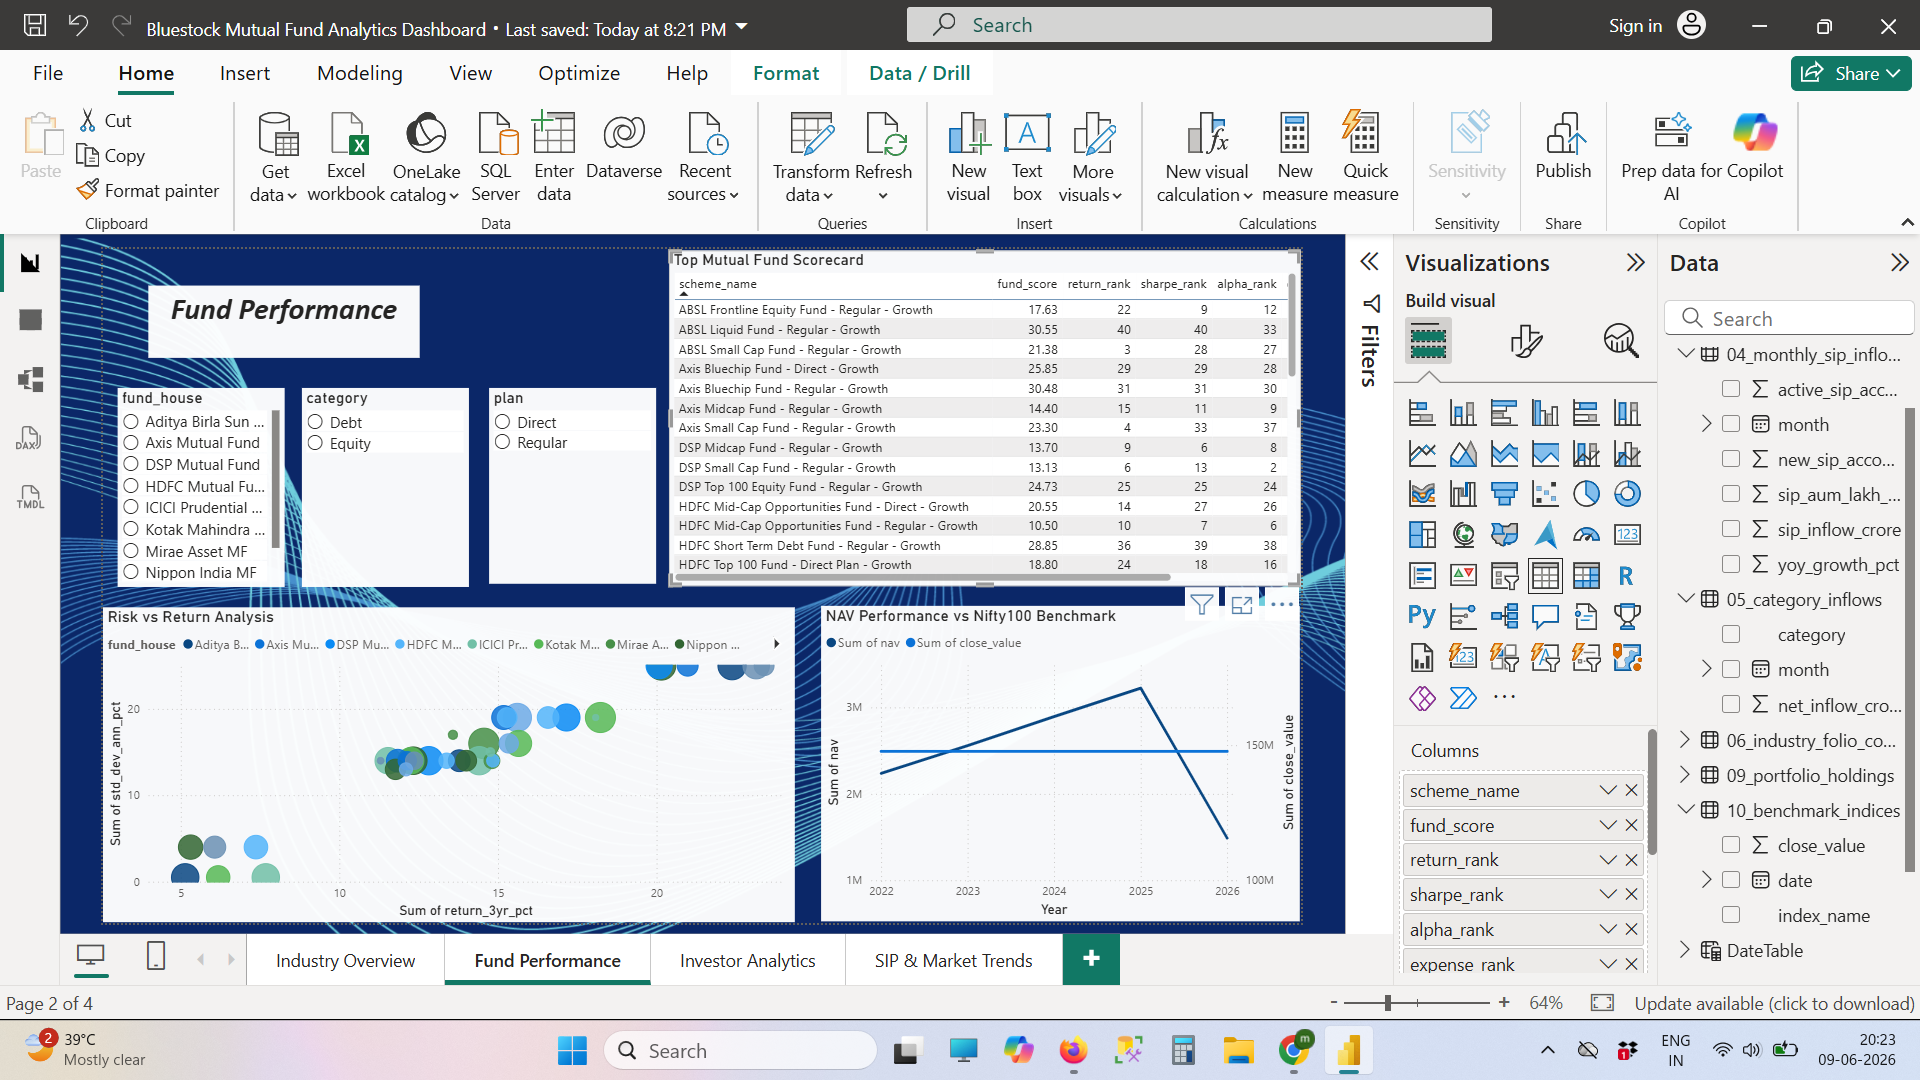

The dashboard page shown, as its layout file describes it:
{"tool":"powerbi","page":{"name":"Fund Performance","canvas":[1280,720],"ordinal":1},"visuals":[{"type":"scatterChart","title":"Risk vs Return Analysis","fields":{"X":["Sum(scheme_performance_clean.return_3yr_pct)"],"Y":["Sum(scheme_performance_clean.std_dev_ann_pct)"],"Size":["Sum(scheme_performance_clean.aum_crore)"],"Series":["scheme_performance_clean.fund_house"],"Category":["scheme_performance_clean.scheme_name"]},"box":[0,382.6,739.2,336.7],"z":0},{"type":"tableEx","title":"Top Mutual Fund Scorecard","fields":{"Values":["fund_scorecard.scheme_name","fund_scorecard.fund_score","fund_scorecard.return_rank","fund_scorecard.sharpe_rank","fund_scorecard.alpha_rank","fund_scorecard.expense_rank","fund_scorecard.mdd_rank"]},"box":[605.1,1.8,675.3,358.4],"z":1000},{"type":"lineChart","title":"NAV Performance vs Nifty100 Benchmark","fields":{"Category":["nav_history_clean.date.Variation.Date Hierarchy.Year"],"Y":["Sum(nav_history_clean.nav)"],"Y2":["Sum(10_benchmark_indices.close_value)"]},"box":[767.2,381.8,511.4,336.8],"z":2000},{"type":"listSlicer","fields":{"Values":["01_fund_master.fund_house"]},"box":[16.2,147.7,178.3,212.5],"z":3000},{"type":"listSlicer","fields":{"Values":["01_fund_master.plan"]},"box":[412.4,147.7,178.3,208.9],"z":4000},{"type":"listSlicer","fields":{"Values":["01_fund_master.category"]},"box":[212.5,147.7,178.3,212.5],"z":5000},{"type":"textbox","box":[48.6,39.6,289.9,77.4],"z":6000}]}

Visuals, with their boxes on the page's 1280x720 design canvas (x1, y1, x2, y2). These are canvas units, not pixel positions in the 1920x1080 screenshot, which may show the page scaled, cropped or inside an application window:
"Risk vs Return Analysis" scatterChart: <region>0, 383, 739, 719</region>
"Top Mutual Fund Scorecard" tableEx: <region>605, 2, 1280, 360</region>
"NAV Performance vs Nifty100 Benchmark" lineChart: <region>767, 382, 1279, 719</region>
listSlicer - 01_fund_master.fund_house: <region>16, 148, 194, 360</region>
listSlicer - 01_fund_master.plan: <region>412, 148, 591, 357</region>
listSlicer - 01_fund_master.category: <region>212, 148, 391, 360</region>
textbox: <region>49, 40, 338, 117</region>
